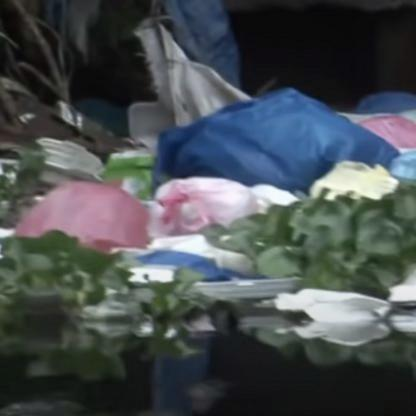Trash: (162, 100, 396, 181), (16, 178, 149, 263), (152, 173, 291, 230), (282, 288, 401, 328), (320, 158, 396, 204), (144, 244, 229, 284), (363, 111, 415, 152), (368, 80, 415, 115), (393, 151, 415, 184)
